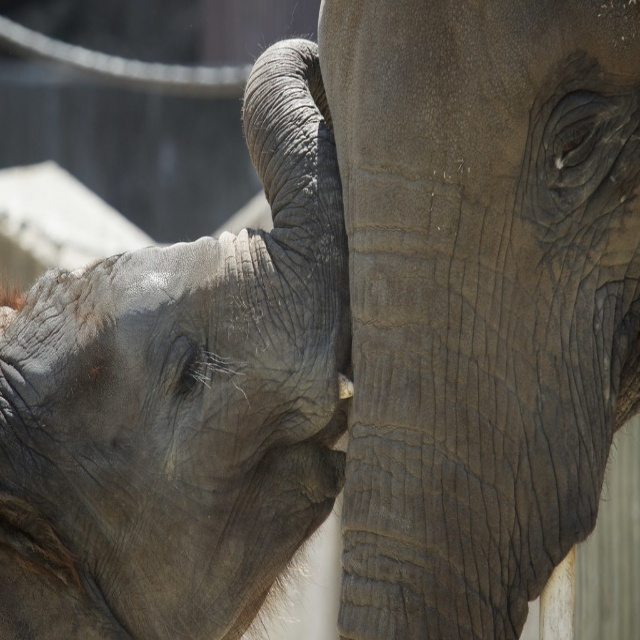Elephant: (0, 28, 354, 640), (318, 0, 640, 640)
